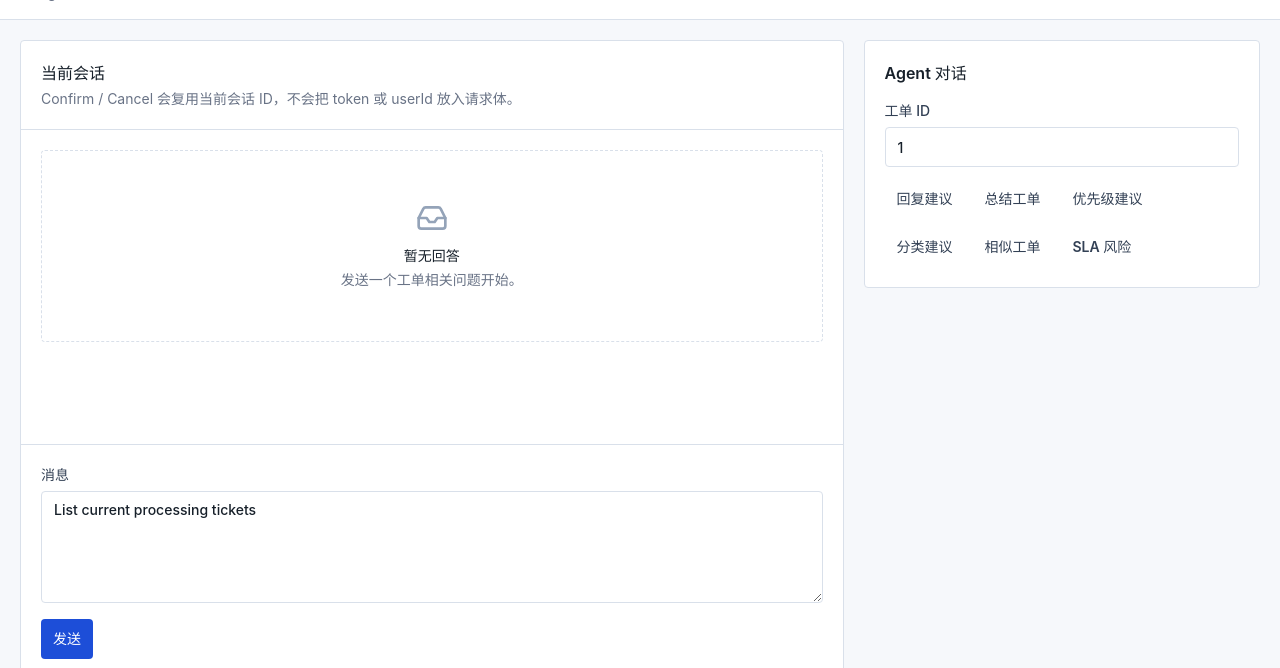
Test case: AiPage › renders similar tickets list and empty state
(page scrolled)
Click the button "发送".
click(67, 639)  # box top-left (41, 619), bottom-right (93, 659)
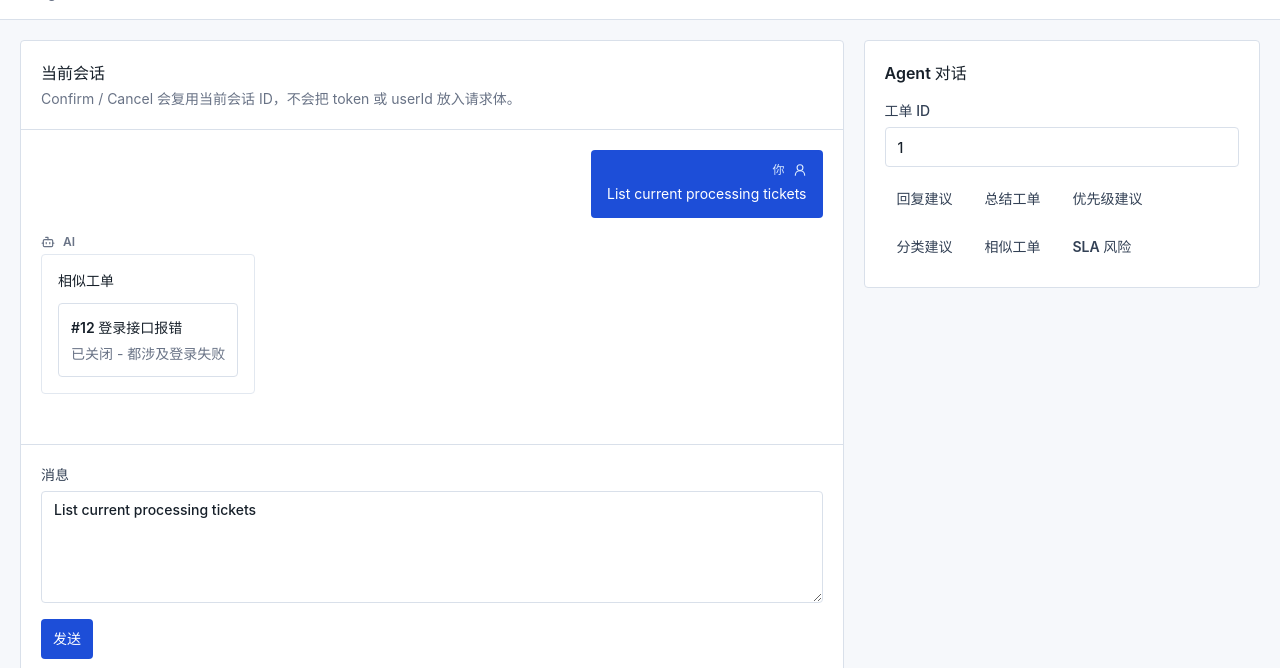
expect the text "相似工单" is shown: met, box top-left (58, 272), bottom-right (114, 289)
expect the text "#12 登录接口报错" is shown: met, box top-left (71, 319), bottom-right (182, 336)
expect the text "已关闭 - 都涉及登录失败" is shown: met, box top-left (71, 344), bottom-right (225, 364)
Click the button "发送".
click(67, 639)  # box top-left (41, 619), bottom-right (93, 659)
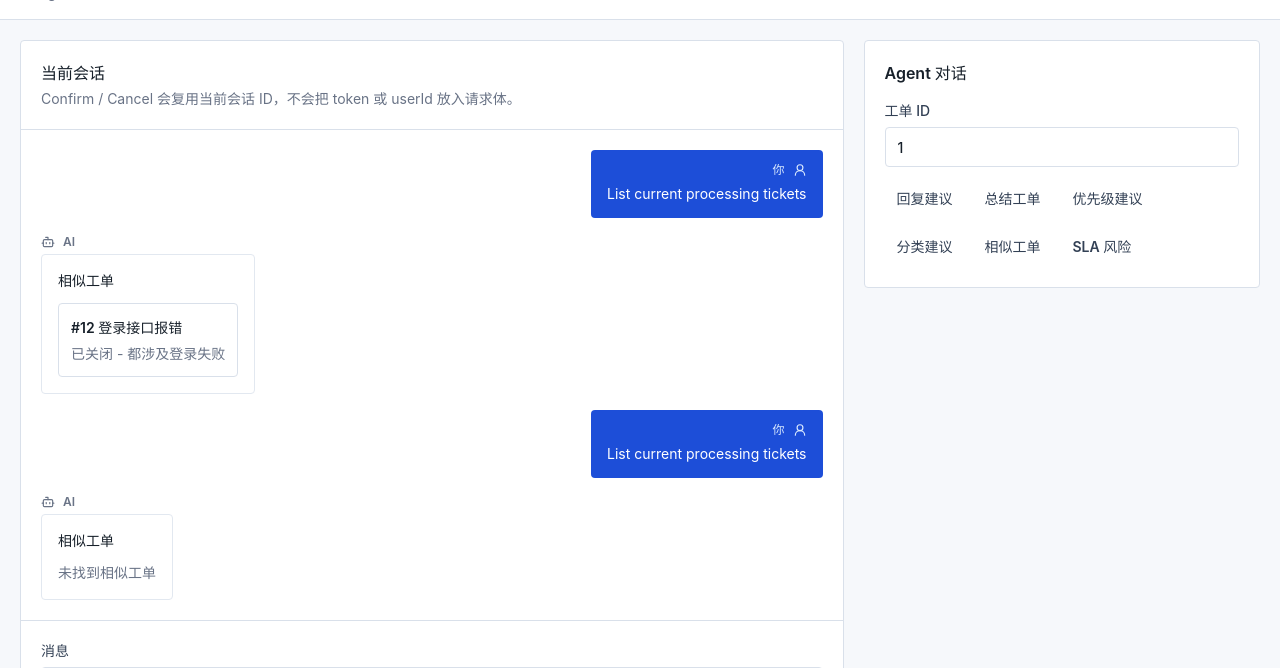
expect the text "未找到相似工单" is shown: met, box top-left (58, 563), bottom-right (156, 583)
